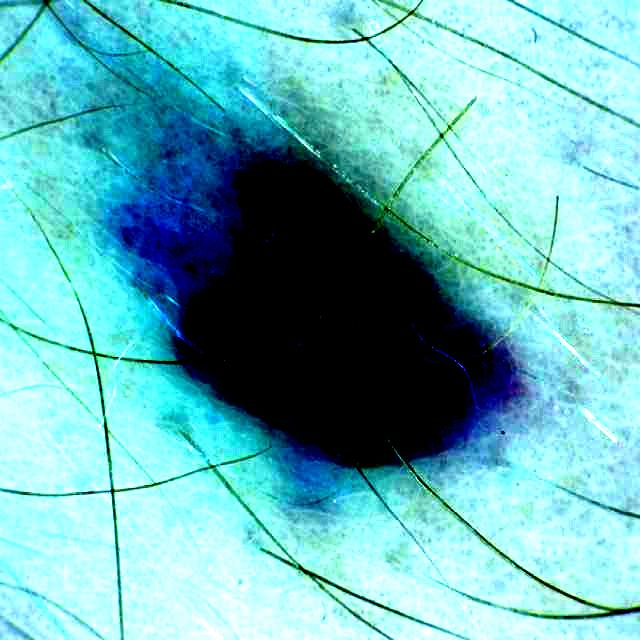VASC: (122, 97, 489, 447)
